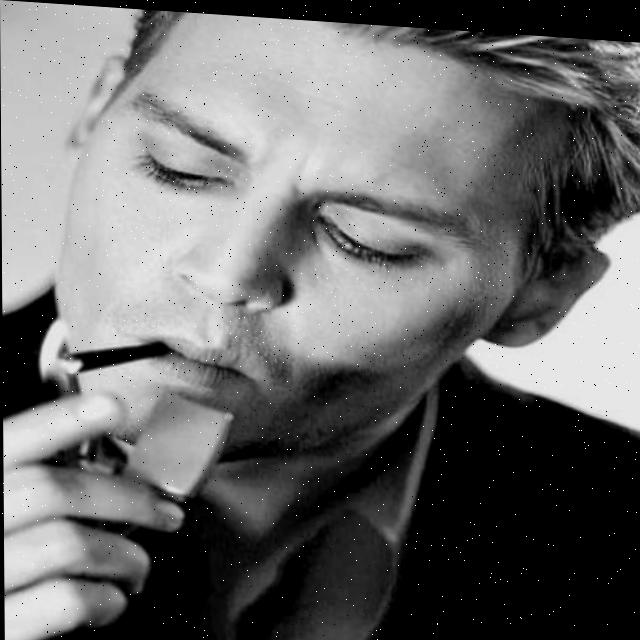cigarette: (49, 331, 179, 387)
